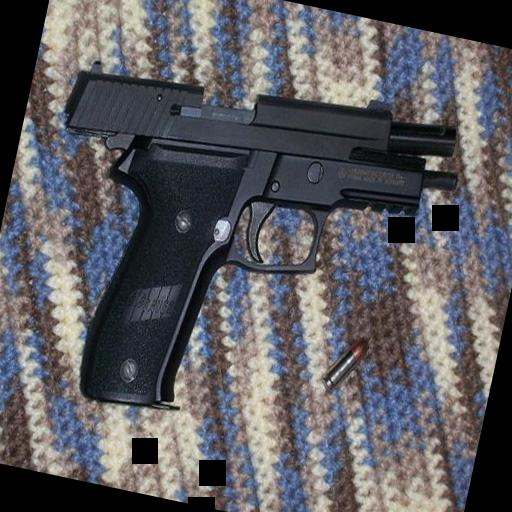Handgun: (0, 35, 470, 469)
